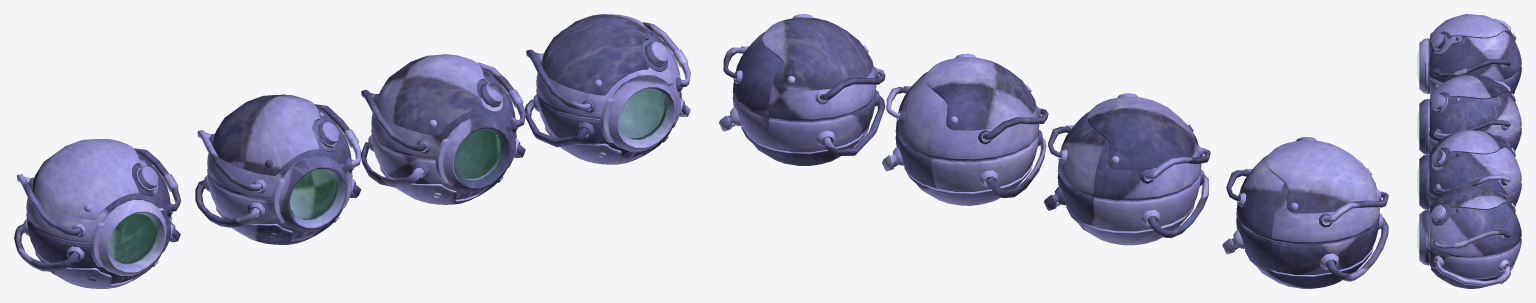
File: gumball_capsules_low.fbx
The picture shows the model from 3 angles, left to right: view 1: azimuth 30°, elevation 25°; view 2: azimuth 150°, elevation 25°; view 3: azimuth 270°, elevation 25°; orthographic projection. The views are drawn at different scales.
Parts seen in each view (by area): view 1: capsule_top2, capsule_top1, capsule_top3, capsule_top, capsule_bottom1, capsule_bottom2, capsule_bottom, capsule_bottom3, capsule_glass_frame1, capsule_glass_frame, capsule_glass_frame3, capsule_glass_frame2 (+12 smaller); view 2: capsule_top2, capsule_top, capsule_top1, capsule_top3, capsule_bottom2, capsule_bottom, capsule_bottom3, capsule_bottom1, capsule_tubes_bottom1, capsule_tubes_bottom2, capsule_tubes_bottom3, capsule_tubes_bottom (+4 smaller); view 3: capsule_top2, capsule_top, capsule_top1, capsule_top3, capsule_bottom1, capsule_tubes_bottom3, capsule_glass_frame, capsule_glass_frame1, capsule_glass_frame2, capsule_glass_frame3, capsule_tubes_top1, capsule_tubes_top3 (+9 smaller).
Boxes of the visible parts, x1,y1,x2,y2 form: capsule_top2: [536, 14, 683, 119]; capsule_top1: [371, 54, 517, 159]; capsule_top3: [207, 94, 353, 199]; capsule_top: [26, 139, 173, 243]; capsule_bottom1: [533, 75, 684, 164]; capsule_bottom2: [204, 155, 355, 244]; capsule_bottom: [368, 115, 520, 204]; capsule_bottom3: [23, 199, 175, 288]; capsule_glass_frame1: [435, 115, 515, 191]; capsule_glass_frame: [600, 75, 680, 151]; capsule_glass_frame3: [271, 156, 351, 231]; capsule_glass_frame2: [90, 200, 170, 275]; capsule_top2: [733, 17, 878, 121]; capsule_top: [1236, 140, 1381, 244]; capsule_top1: [895, 57, 1040, 161]; capsule_top3: [1057, 96, 1203, 200]; capsule_bottom2: [1054, 169, 1204, 245]; capsule_bottom: [892, 130, 1042, 205]; capsule_bottom3: [1233, 213, 1383, 288]; capsule_bottom1: [730, 90, 879, 165]; capsule_tubes_bottom1: [1222, 217, 1388, 281]; capsule_tubes_bottom2: [1044, 174, 1208, 238]; capsule_tubes_bottom3: [719, 95, 885, 156]; capsule_tubes_bottom: [882, 138, 1046, 198]; capsule_top2: [1429, 185, 1521, 257]; capsule_top: [1429, 14, 1521, 82]; capsule_top1: [1429, 130, 1521, 196]; capsule_top3: [1429, 74, 1521, 141]; capsule_bottom1: [1429, 237, 1521, 288]; capsule_tubes_bottom3: [1434, 259, 1510, 286]; capsule_glass_frame: [1419, 209, 1429, 265]; capsule_glass_frame1: [1419, 154, 1429, 209]; capsule_glass_frame2: [1419, 38, 1429, 93]; capsule_glass_frame3: [1419, 99, 1429, 154]; capsule_tubes_top1: [1433, 190, 1510, 249]; capsule_tubes_top3: [1433, 19, 1510, 77].
Bounding box in the file's own units: 1092 × 222 × 223.
